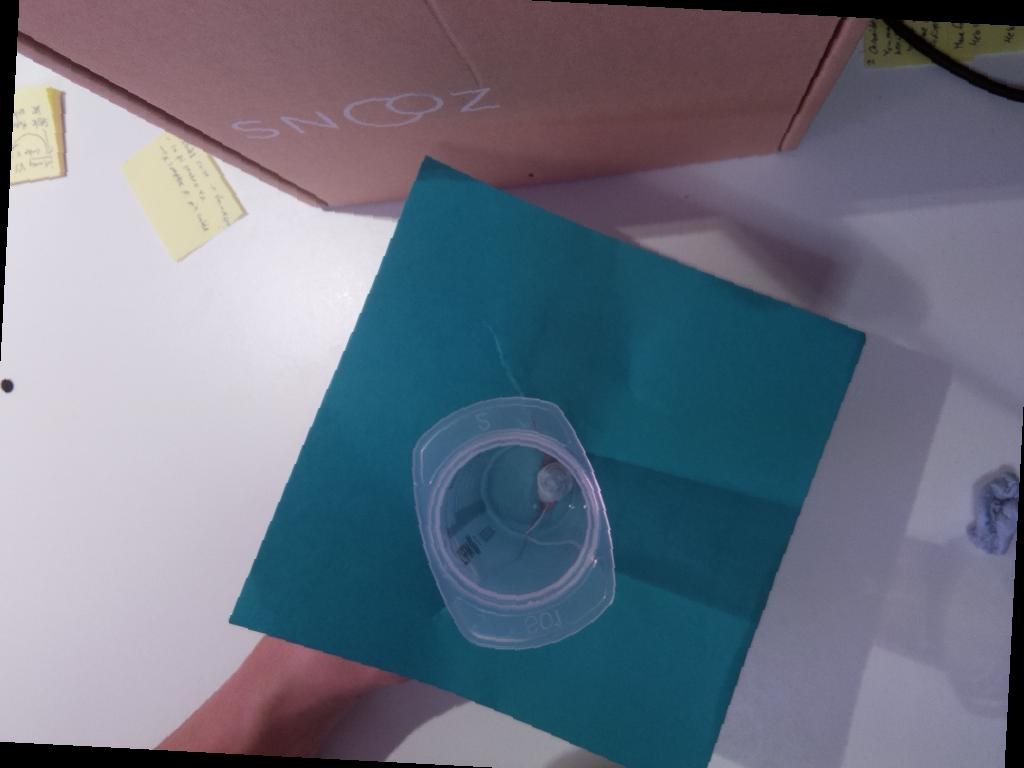clean: (410, 395, 617, 652)
